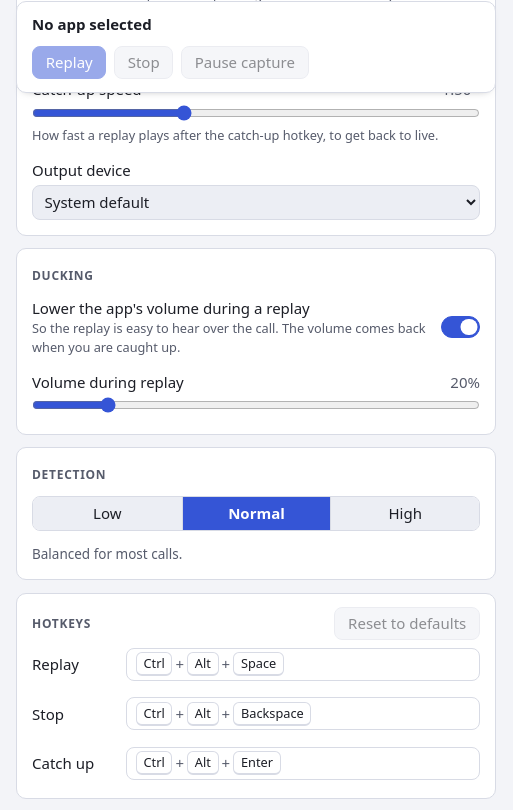
ducking section › level slider is in percent and saves a fraction
(page scrolled)
Expected: the element named "Status" is shown, x1=16 y1=0 x2=496 y2=92
Expected: the text "20%" is shown, x1=450 y1=371 x2=480 y2=393
Set the slider labelled "Volume during replay" to "55" at coordinates (267, 405), box x1=32 y1=397 x2=480 y2=413
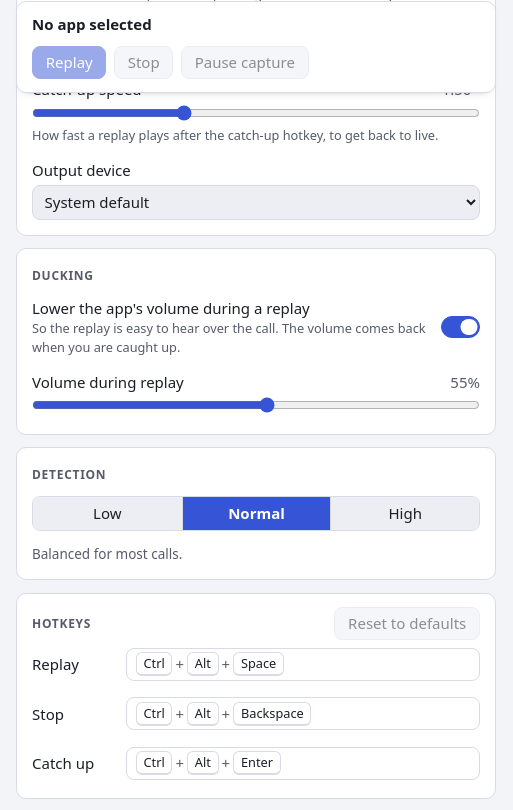
Now the text "55%" is shown, box x1=450 y1=371 x2=480 y2=393
